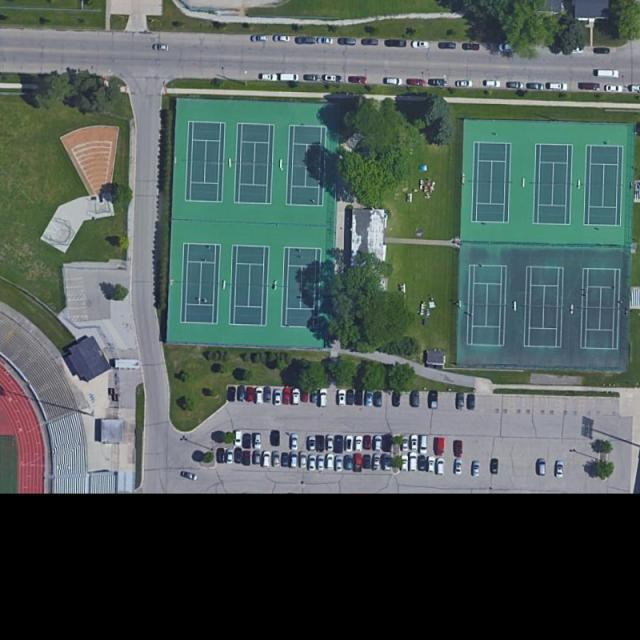vehicle: (434, 436, 447, 457), (498, 42, 518, 53), (391, 434, 402, 454), (382, 434, 393, 454), (254, 388, 266, 406), (409, 452, 419, 473), (262, 387, 273, 406), (577, 82, 600, 91), (597, 69, 620, 78), (181, 470, 198, 482), (548, 81, 568, 91), (419, 434, 429, 454), (344, 434, 354, 454), (536, 458, 547, 476), (386, 39, 408, 48), (347, 75, 369, 84), (391, 389, 402, 407), (436, 458, 446, 477), (334, 435, 344, 454), (372, 454, 382, 473), (354, 434, 364, 453), (426, 457, 437, 474), (270, 430, 281, 447), (362, 434, 373, 451), (556, 460, 566, 478), (279, 73, 299, 82), (411, 390, 421, 408), (400, 455, 410, 473), (373, 435, 383, 453), (319, 390, 329, 408), (354, 454, 363, 474), (282, 388, 292, 406), (291, 389, 301, 407), (454, 439, 463, 458), (316, 455, 326, 472), (354, 389, 364, 406), (382, 455, 392, 472), (462, 42, 480, 51), (506, 81, 524, 90), (412, 41, 430, 50), (261, 73, 279, 82), (335, 455, 344, 473), (317, 435, 326, 453), (308, 454, 317, 472), (406, 78, 426, 86), (338, 38, 358, 46), (362, 454, 372, 470), (344, 455, 354, 471), (226, 386, 236, 402), (472, 461, 481, 478), (454, 459, 463, 476), (418, 455, 427, 472), (153, 43, 170, 52), (274, 34, 291, 43), (467, 394, 476, 411), (290, 434, 299, 451), (365, 391, 374, 408), (290, 453, 299, 470), (272, 451, 281, 468), (217, 448, 226, 465), (237, 386, 246, 403), (273, 390, 282, 407), (428, 78, 447, 86), (430, 390, 438, 409), (593, 47, 611, 55), (485, 79, 501, 88), (526, 82, 544, 90), (439, 42, 457, 50), (251, 34, 269, 42), (326, 454, 335, 470), (326, 435, 335, 451), (246, 387, 255, 403), (296, 37, 316, 44), (234, 449, 244, 463), (605, 85, 622, 93), (386, 78, 403, 86), (346, 390, 354, 407), (254, 433, 262, 450), (263, 450, 271, 467), (243, 434, 252, 449), (456, 391, 463, 410), (362, 38, 378, 46), (234, 430, 242, 446), (226, 448, 234, 464), (338, 391, 346, 407), (374, 391, 382, 407), (567, 46, 585, 53), (455, 81, 473, 88), (412, 434, 419, 452), (300, 451, 307, 469), (281, 454, 290, 468), (491, 459, 499, 474), (305, 74, 320, 82), (309, 436, 317, 451), (254, 450, 262, 465), (243, 451, 251, 466), (402, 437, 410, 452), (318, 38, 334, 45), (325, 74, 338, 82), (311, 390, 318, 404), (302, 389, 309, 402), (630, 85, 640, 93)
